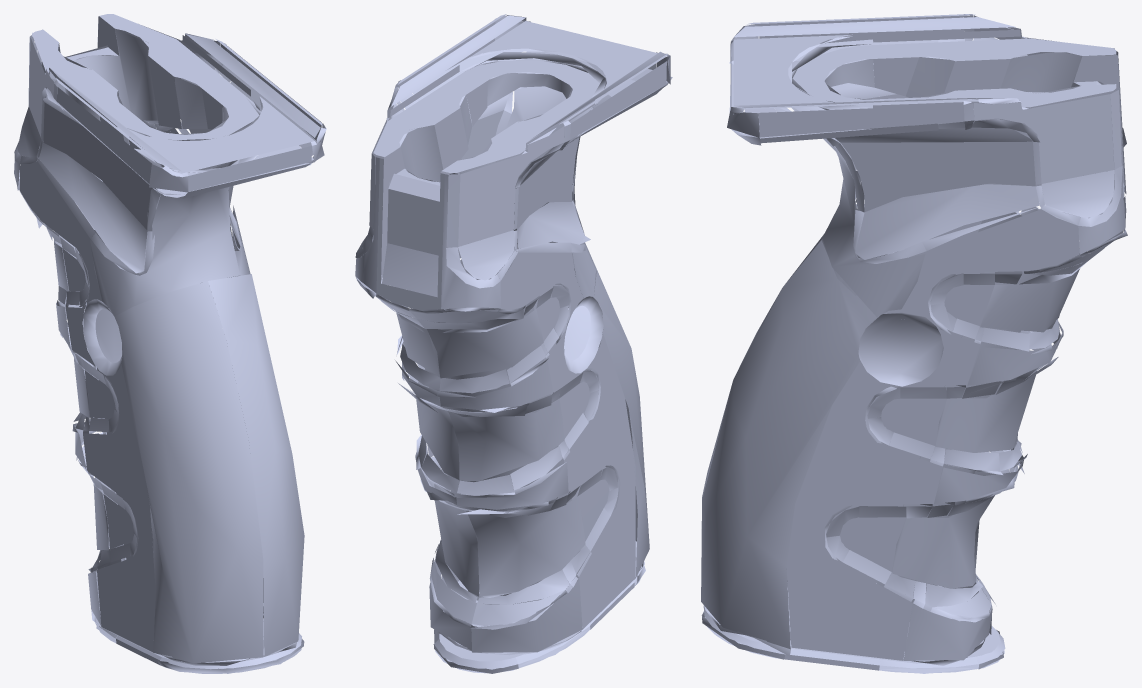
Rendered from grip_pistol_ergonomic.glb.
3 renders of one model, left to right at view 1: azimuth 30°, elevation 25°; view 2: azimuth 150°, elevation 25°; view 3: azimuth 270°, elevation 25°, orthographic. The views are drawn at different scales.
Visible parts, largest first — view 1: AK12_Grip; view 2: AK12_Grip; view 3: AK12_Grip.
Boxes of the visible parts, x1,y1,x2,y2 form: AK12_Grip: [14, 14, 326, 673]; AK12_Grip: [355, 14, 672, 673]; AK12_Grip: [701, 14, 1127, 673].
Bounding box in the file's own units: 0.0381 × 0.1148 × 0.0749.
